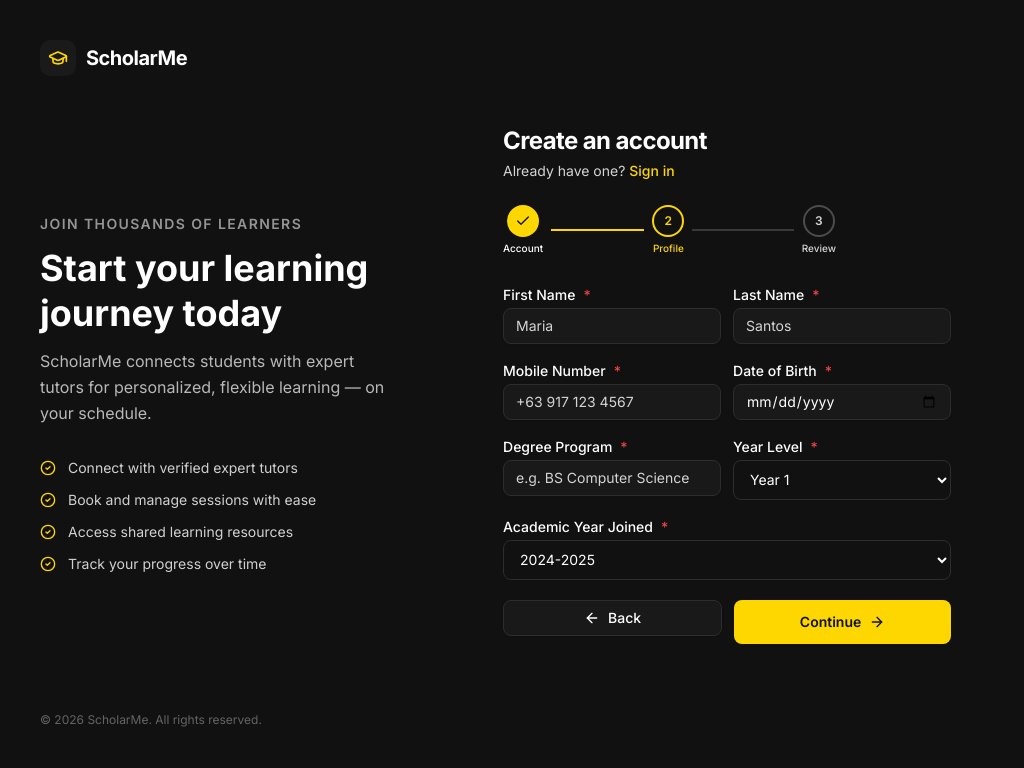
SignUp Page UI › should prevent double-click signup by disabling the button
Earlier steps of the test are not shown.
Later steps or results of the test are not shown.
In the field labelled "First Name *": coordinates (612, 326) [503,308,721,344], type "John"
In the field labelled "Last Name *": coordinates (842, 326) [733,308,951,344], type "Doe"
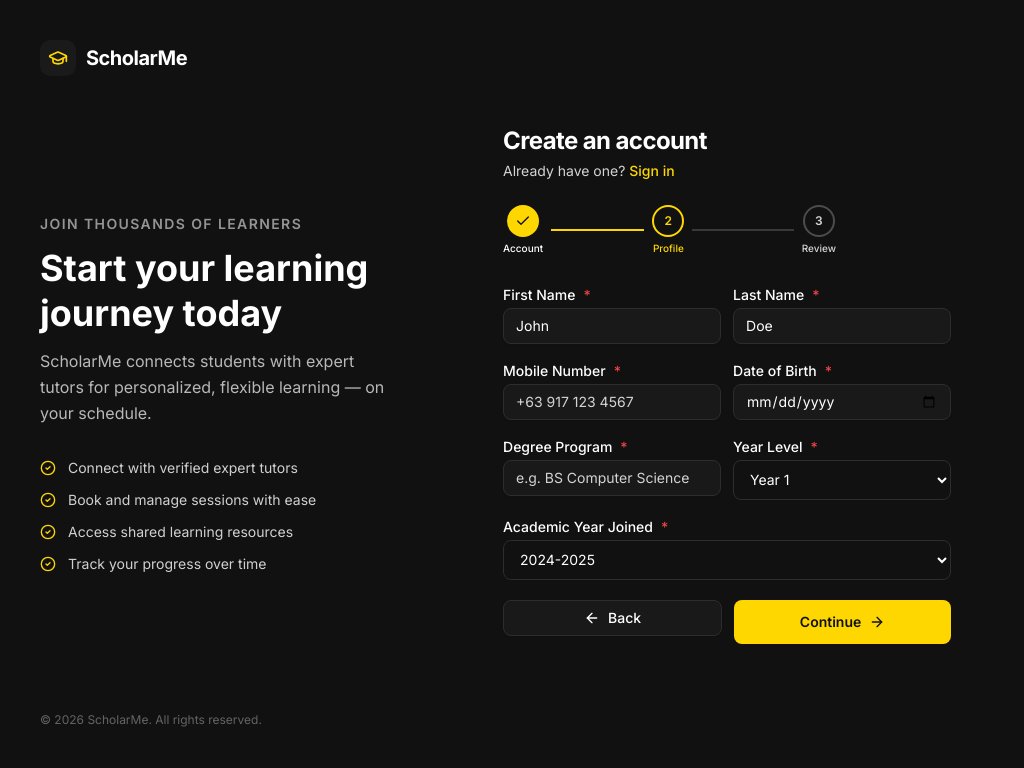
In the field labelled "Mobile Number *": coordinates (612, 402) [503,384,721,420], type "09171234567"
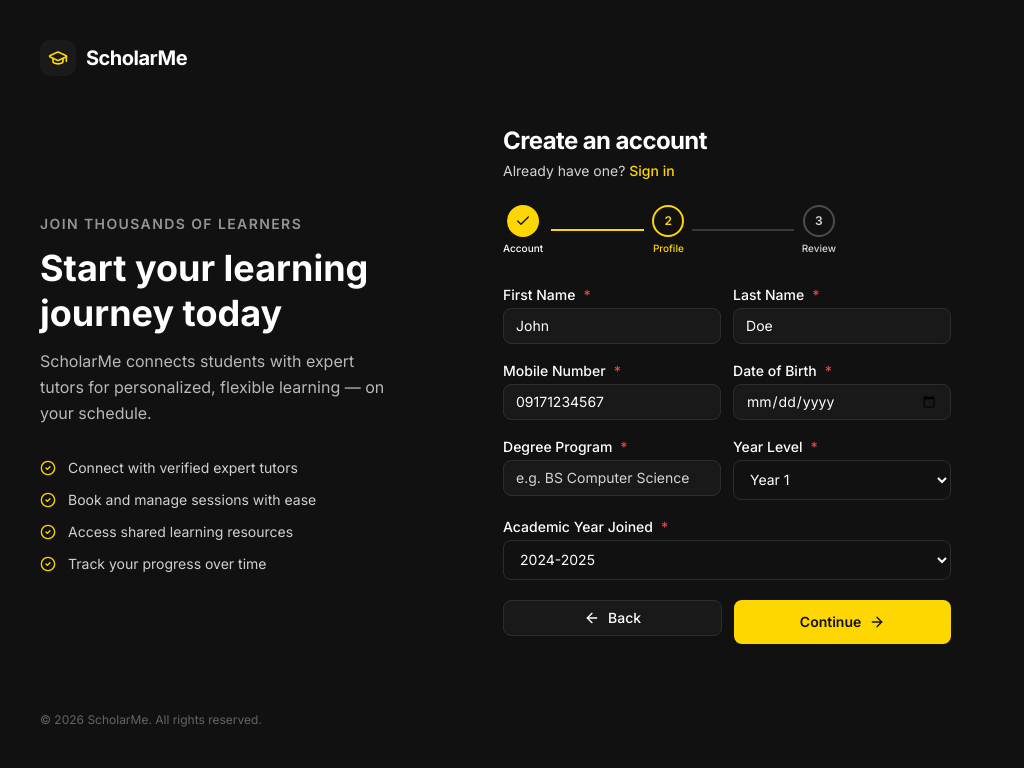
In the date field labelled "Date of Birth *": coordinates (842, 402) [733,384,951,420], type "2000-01-01"
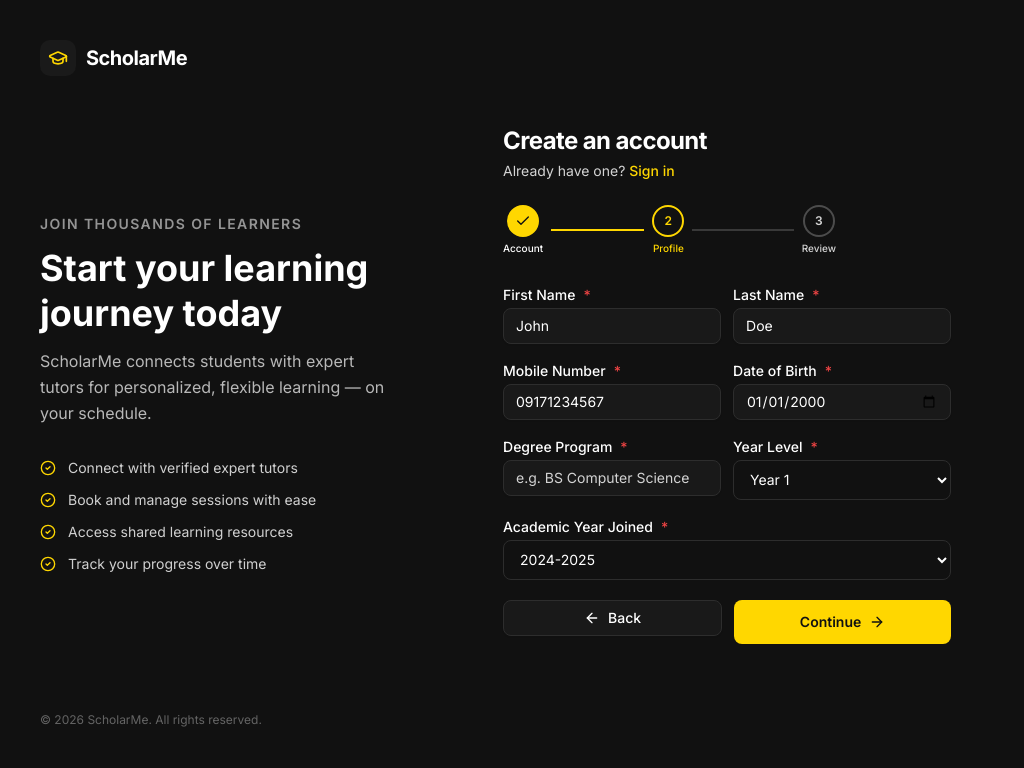
In the field labelled "Degree Program *": coordinates (612, 478) [503,460,721,496], type "BS CS"
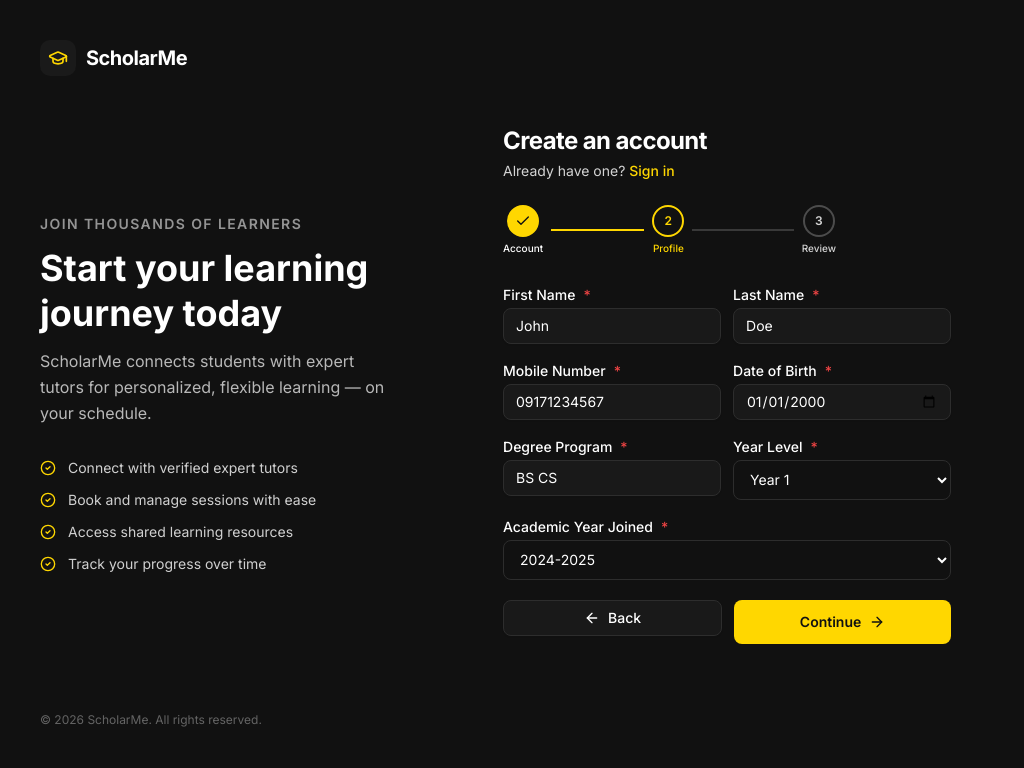
Select "Year 1" in the dropdown labelled "Year Level *": coordinates (842, 480) [733,460,951,500]
Click the button "Continue": coordinates (842, 622) [734,600,951,644]
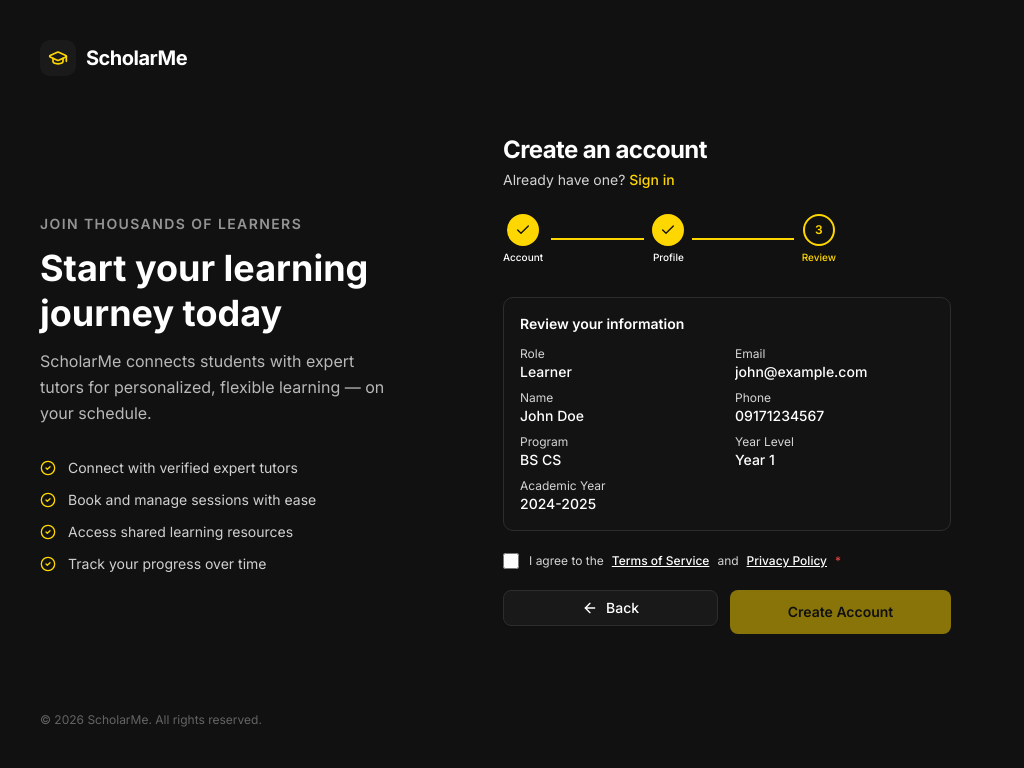
Click the checkbox with id "terms": coordinates (511, 561) [503,553,519,569]
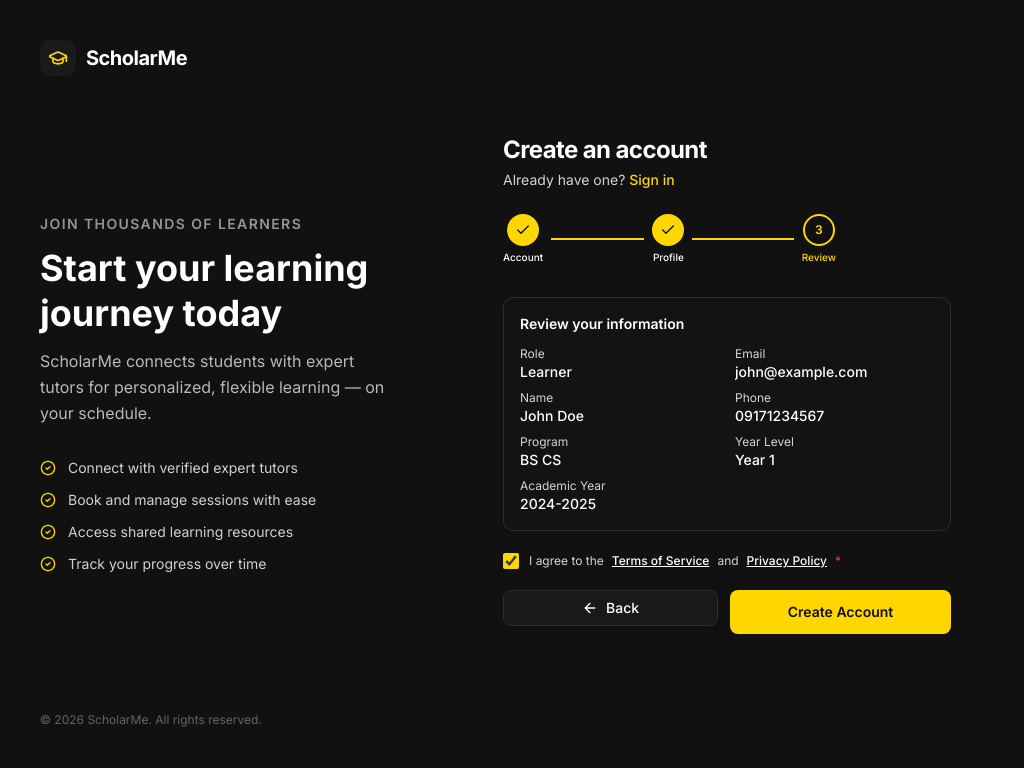
Now the button "Create Account" is enabled, box [730,590,951,634]
